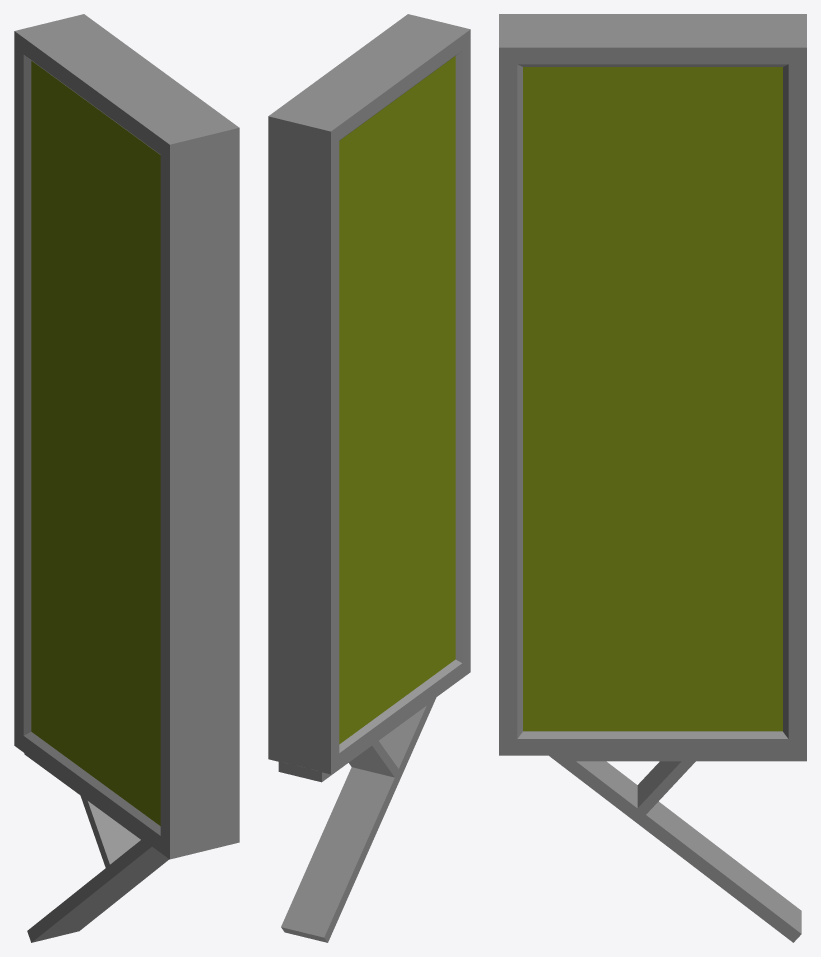
Rendered from DisplayBoarad_A.fbx.
3 views of the same model, side by side, from view 1: azimuth 30°, elevation 25°; view 2: azimuth 150°, elevation 25°; view 3: azimuth 270°, elevation 25° (orthographic). The views are drawn at different scales.
Parts seen in each view (by area): view 1: DisplayBoard_A; view 2: DisplayBoard_A; view 3: DisplayBoard_A.
Part boxes in pixels (x1,y1,x2,y2): DisplayBoard_A: (14, 14, 239, 942); DisplayBoard_A: (268, 14, 470, 942); DisplayBoard_A: (499, 14, 806, 942).
Size of the model in its own units: 21.73 by 271 by 83.92.
